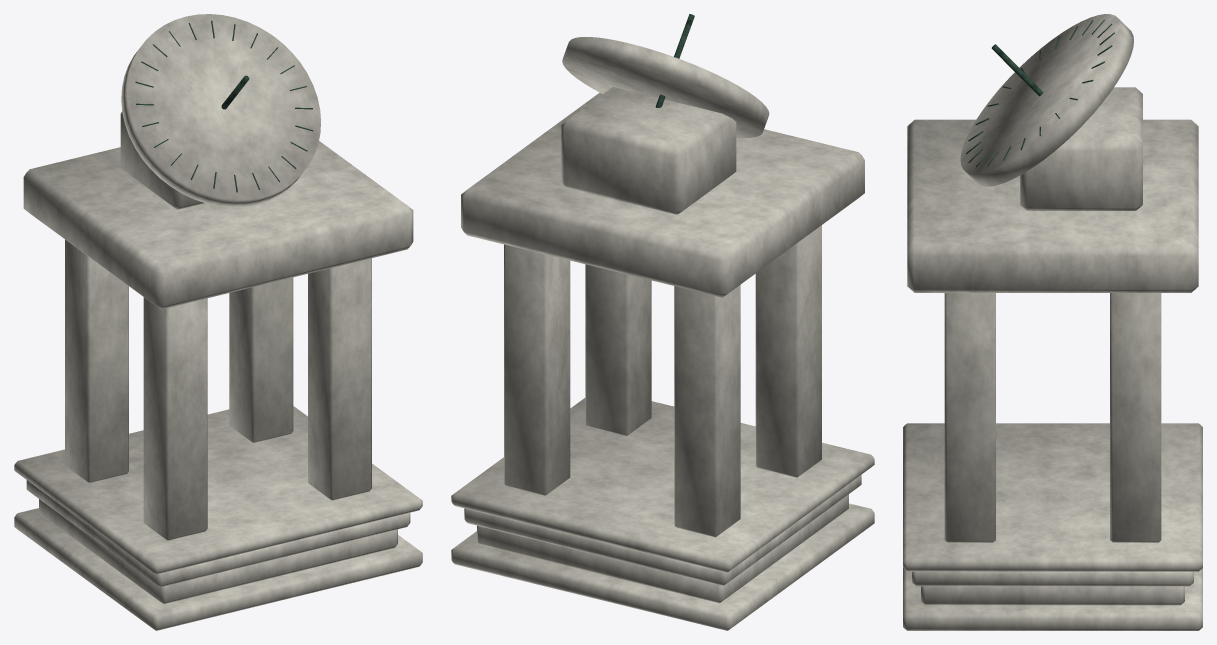
File: aurinkokello.glb
The picture shows the model from 3 angles, left to right: view 1: azimuth 30°, elevation 25°; view 2: azimuth 150°, elevation 25°; view 3: azimuth 270°, elevation 25°; orthographic projection. The views are drawn at different scales.
Parts seen in each view (by area): view 1: vaalea-kivi, vihrea-pronssipatina; view 2: vaalea-kivi; view 3: vaalea-kivi, vihrea-pronssipatina.
Part boxes in pixels (x1,y1,x2,y2): vaalea-kivi: [14, 14, 422, 630]; vihrea-pronssipatina: [135, 20, 313, 192]; vaalea-kivi: [451, 37, 874, 630]; vaalea-kivi: [903, 14, 1202, 630]; vihrea-pronssipatina: [966, 19, 1114, 166].
Size of the model in its own units: 1.11 by 2 by 1.02.
Materials: 2 (2 with a texture image).
